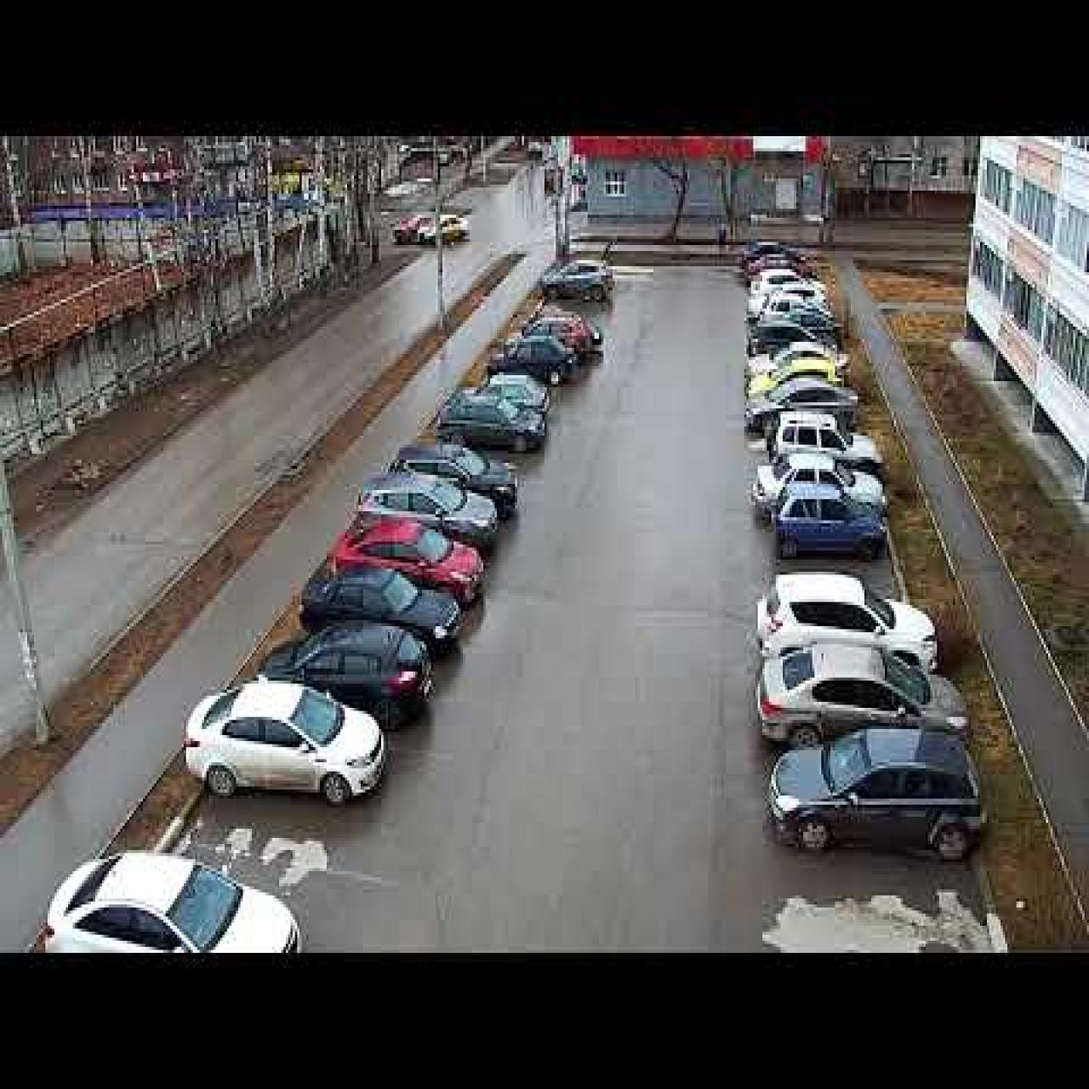cars: (757, 755, 988, 867), (255, 627, 450, 752), (194, 709, 391, 821), (748, 602, 947, 681), (753, 681, 959, 756), (362, 482, 523, 570), (335, 526, 496, 611), (294, 579, 480, 652), (367, 446, 542, 519), (741, 410, 884, 476), (734, 381, 863, 436), (745, 463, 884, 511), (732, 315, 854, 369), (733, 304, 842, 361), (764, 498, 893, 546), (733, 292, 840, 340), (454, 373, 576, 413), (430, 409, 561, 445), (730, 278, 838, 321), (499, 321, 610, 354), (489, 340, 589, 373), (737, 268, 828, 301), (538, 263, 626, 296), (735, 247, 812, 283), (732, 235, 816, 259)
empty: (156, 827, 372, 930), (402, 426, 554, 478), (740, 547, 898, 596), (520, 288, 614, 321)
